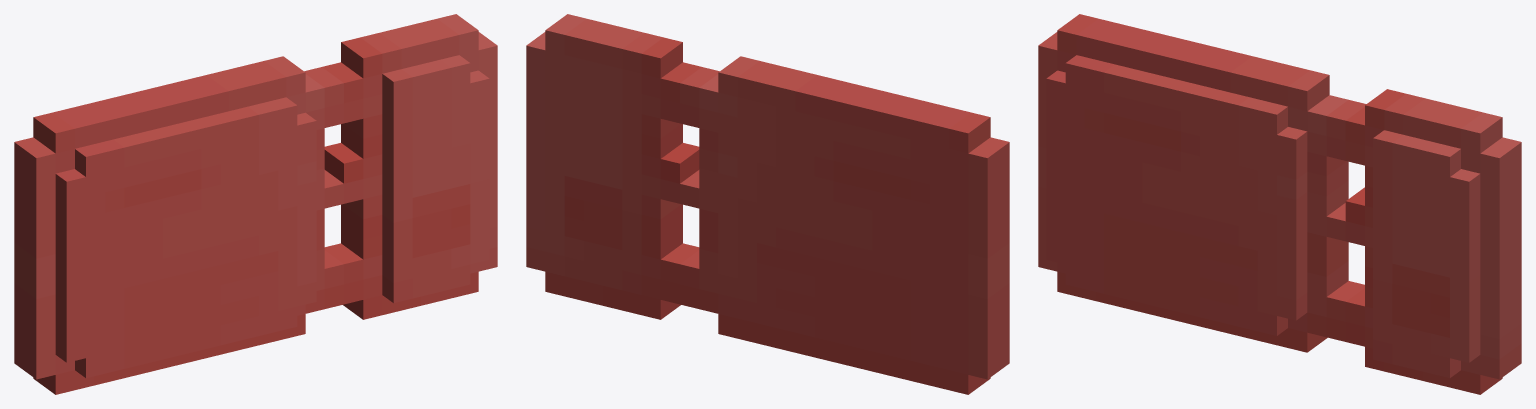
Rendered from ticket-red.glb.
The picture shows the model from 3 angles, left to right: view 1: azimuth 30°, elevation 25°; view 2: azimuth 150°, elevation 25°; view 3: azimuth 330°, elevation 25°; orthographic projection.
Visible parts, largest first — view 1: prop; view 2: prop; view 3: prop.
Part boxes in pixels (x1=…): prop: x1=14, y1=14, x2=497, y2=394; prop: x1=526, y1=14, x2=1009, y2=394; prop: x1=1038, y1=14, x2=1521, y2=394.
Size of the model in its own units: 16.62 by 9 by 2.08.
